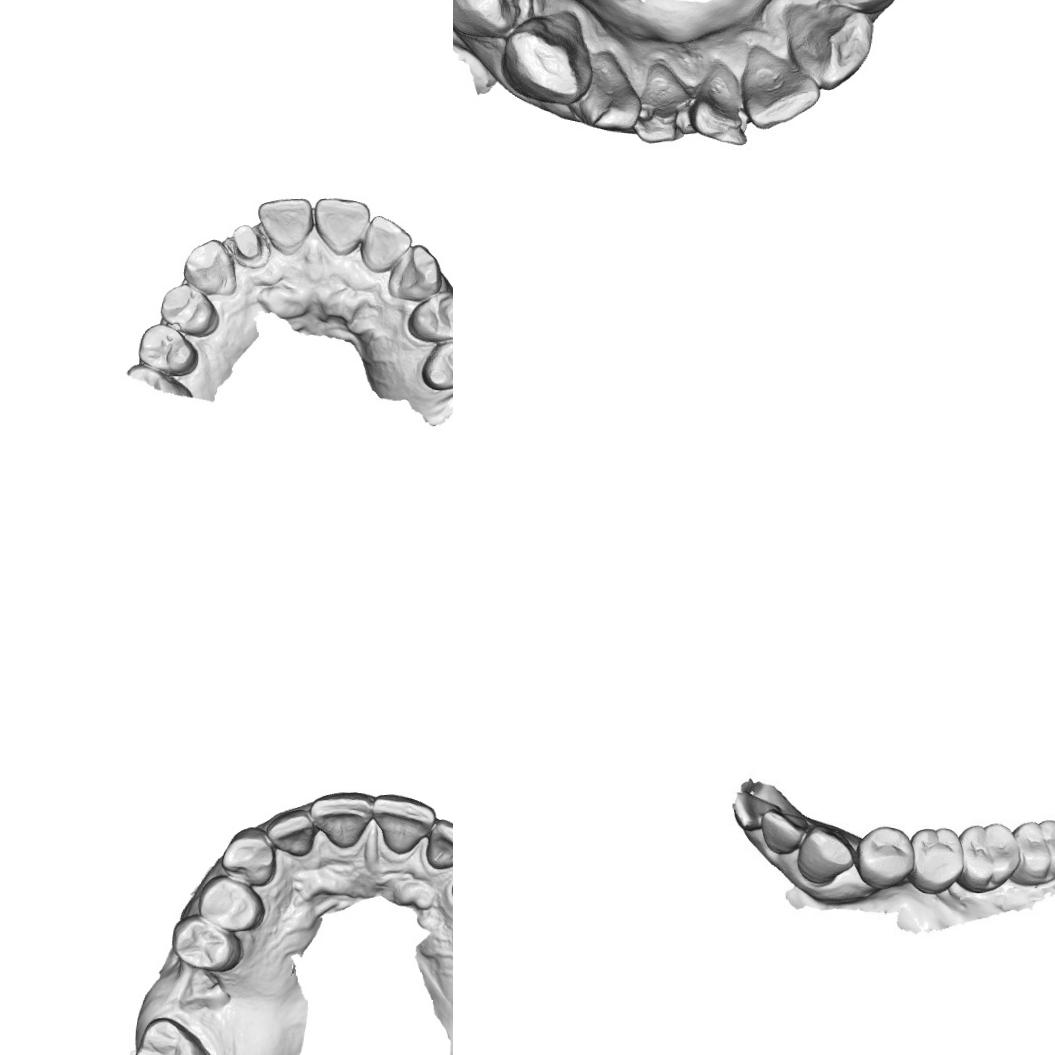canine: (784, 2, 877, 91), (504, 18, 592, 106), (794, 822, 857, 889), (386, 240, 448, 302), (179, 235, 240, 298), (219, 826, 278, 887)
crown: (230, 221, 265, 264)
incisor: (742, 44, 826, 134), (689, 62, 752, 150), (636, 65, 702, 146), (578, 58, 645, 137), (368, 792, 438, 857), (311, 195, 373, 260), (307, 790, 374, 850), (255, 194, 316, 256), (359, 212, 416, 274), (757, 804, 814, 858), (262, 806, 316, 860), (727, 786, 780, 832), (424, 817, 453, 872)
molar: (957, 820, 1020, 896), (131, 1015, 216, 1055), (1013, 815, 1055, 888)
premolar: (168, 912, 244, 975), (195, 872, 266, 934), (907, 825, 964, 897), (855, 822, 914, 890), (135, 322, 200, 378), (158, 282, 222, 338), (453, 0, 535, 41), (404, 287, 453, 345), (418, 336, 453, 394)
